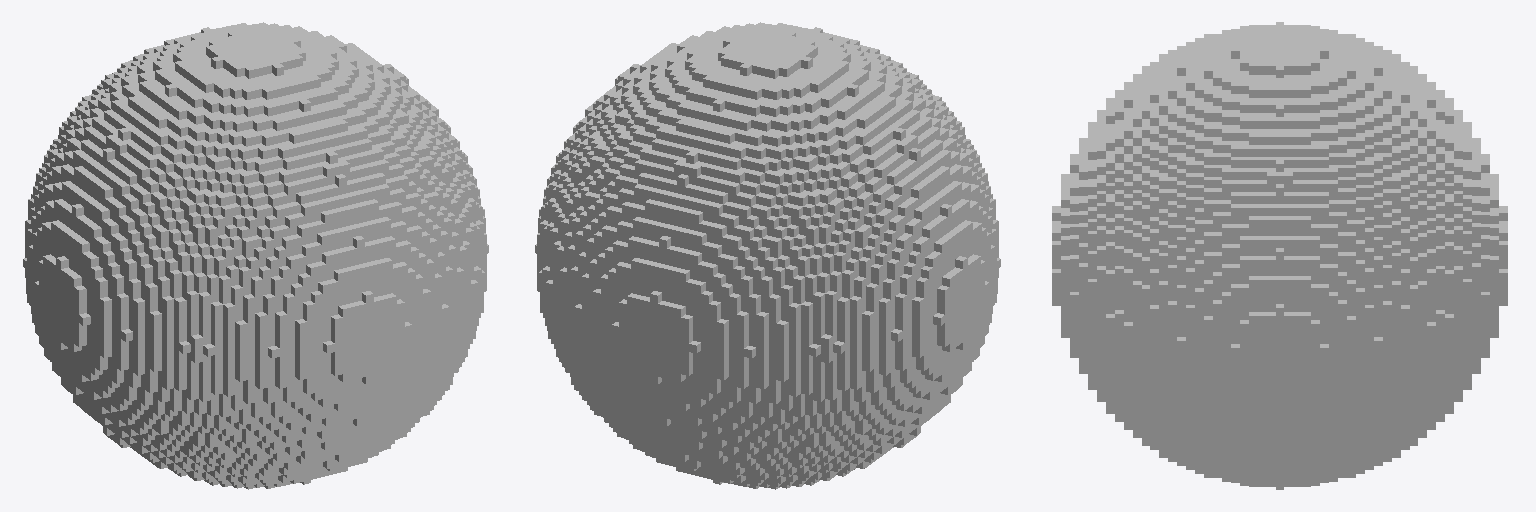
Rendered from Ball.obj.
The picture shows the model from 3 angles: view 1: azimuth 30°, elevation 25°; view 2: azimuth 150°, elevation 25°; view 3: azimuth 270°, elevation 25°; orthographic projection.
Size of the model in its own units: 51 by 51 by 51.